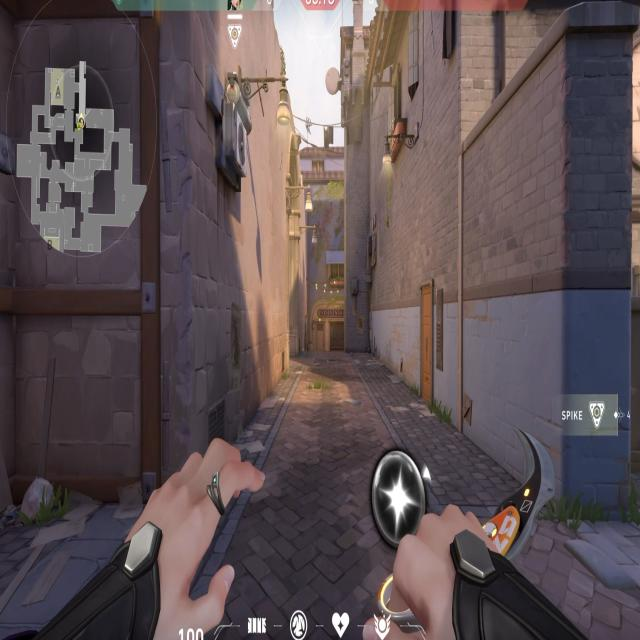Wine: (298, 275, 362, 361)
